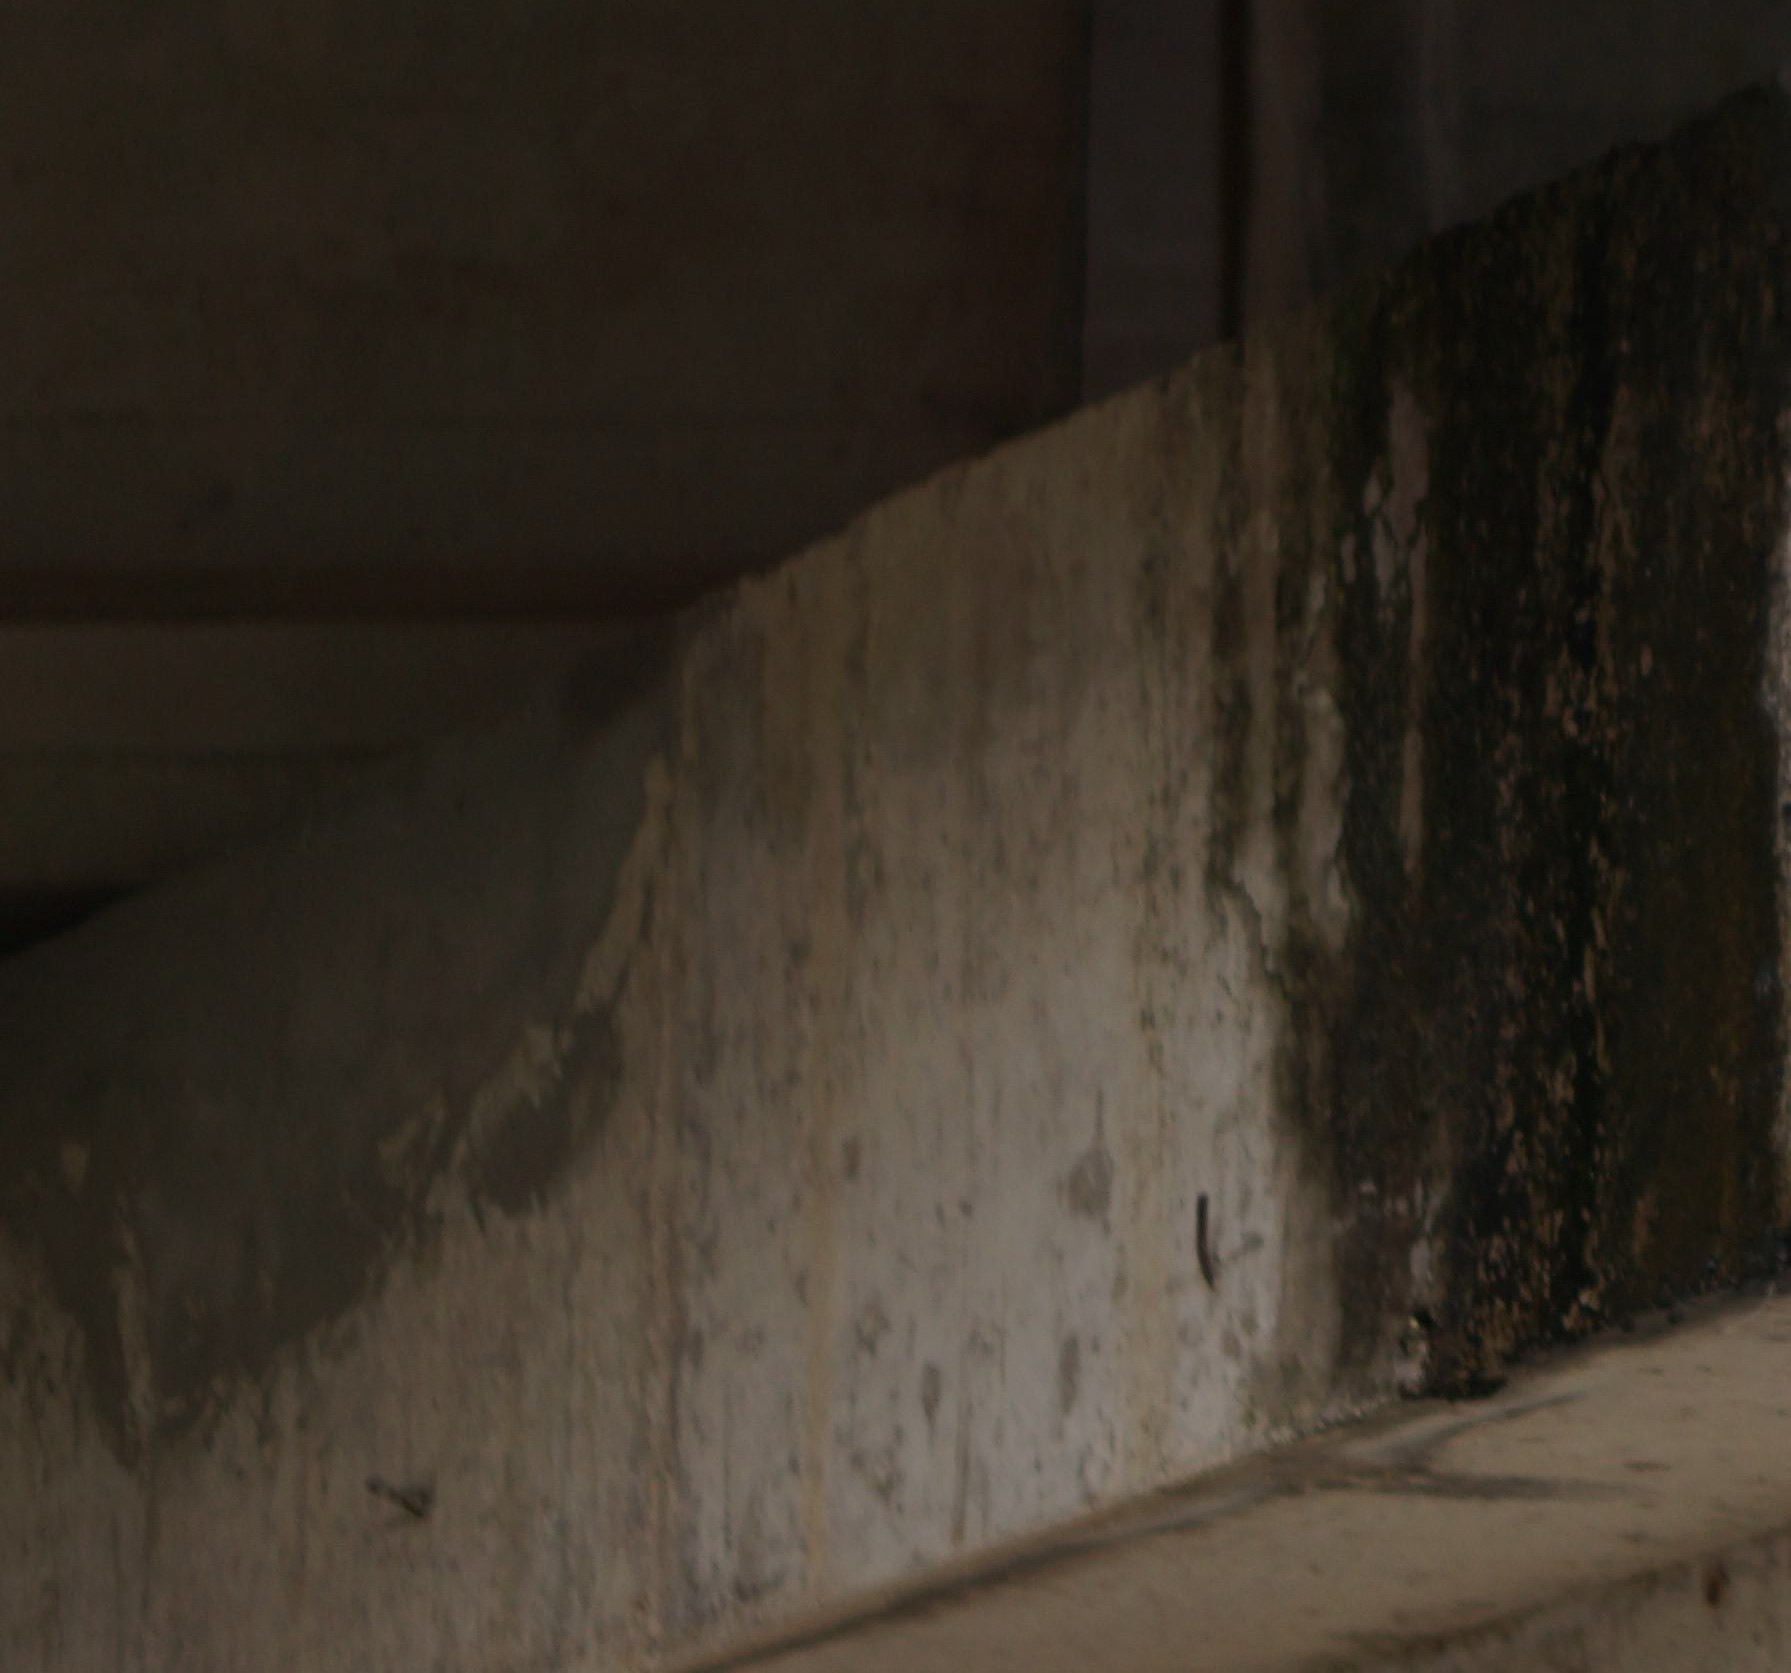Corrosion: (1204, 53, 1791, 1407)
Exposed reinforcement: (363, 1480, 426, 1524), (1197, 1186, 1217, 1292)
Spalling: (2, 605, 689, 1473)
